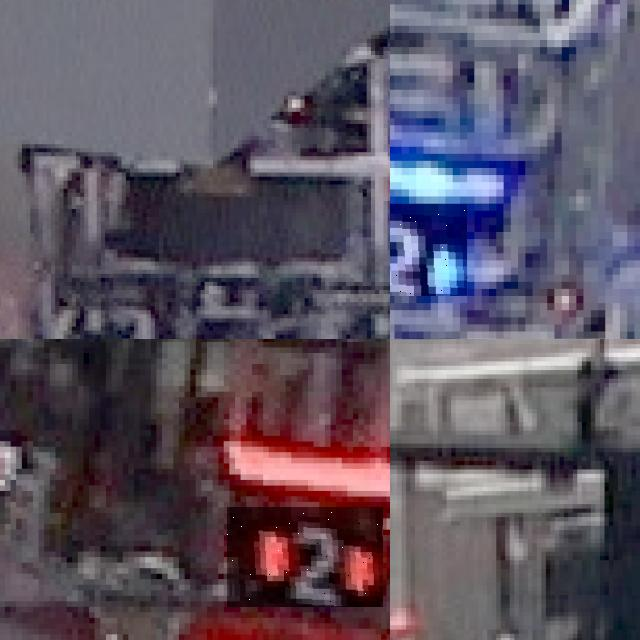B2: (390, 203, 467, 296)
R2: (227, 507, 383, 607), (0, 419, 36, 529)
